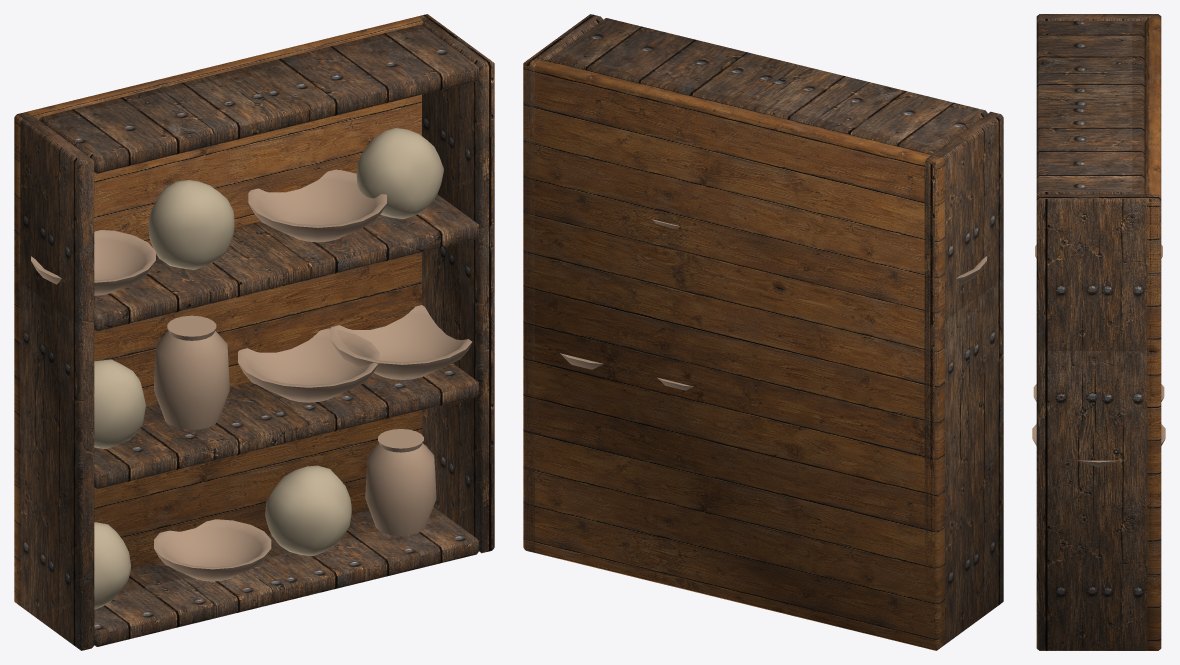
Rendered from pantry-shelf-v01.glb.
3 renders of one model, left to right at view 1: azimuth 30°, elevation 25°; view 2: azimuth 150°, elevation 25°; view 3: azimuth 270°, elevation 25°, orthographic. The views are drawn at different scales.
Parts seen in each view (by area): view 1: pantry-shelf; view 2: pantry-shelf; view 3: pantry-shelf.
Boxes of the visible parts, x1,y1,x2,y2 form: pantry-shelf: [14, 14, 494, 650]; pantry-shelf: [523, 14, 1003, 650]; pantry-shelf: [1032, 14, 1165, 650].
Bounding box in the file's own units: 1.64 × 1.8 × 0.4818.
Materials: 4 (2 with a texture image).
